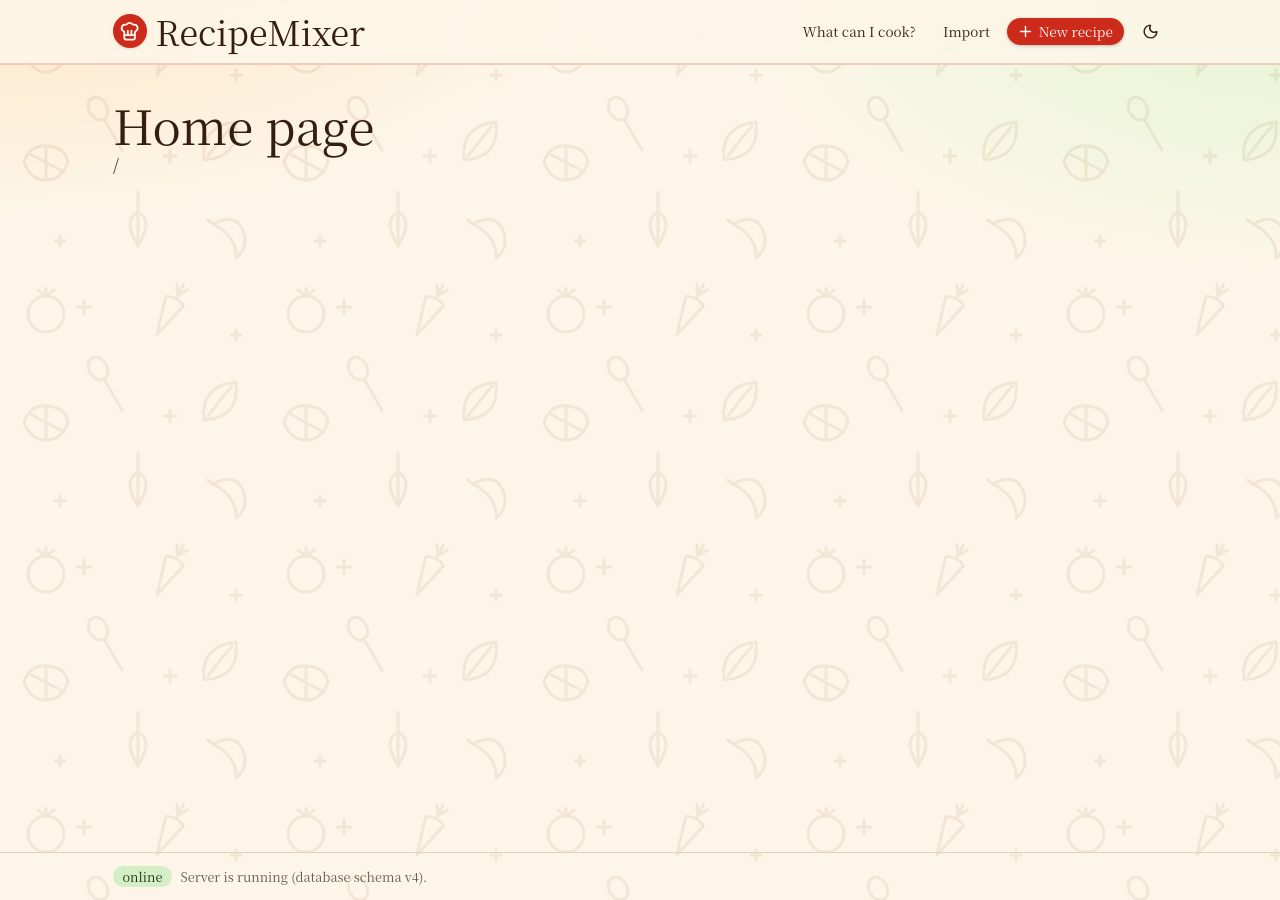
it: Layout › moves focus to the new page after following a link
The width and height of the screenshot is (1280, 900).
Click the link "What can I cook?". click: (859, 31)
box: [802,21,916,41]
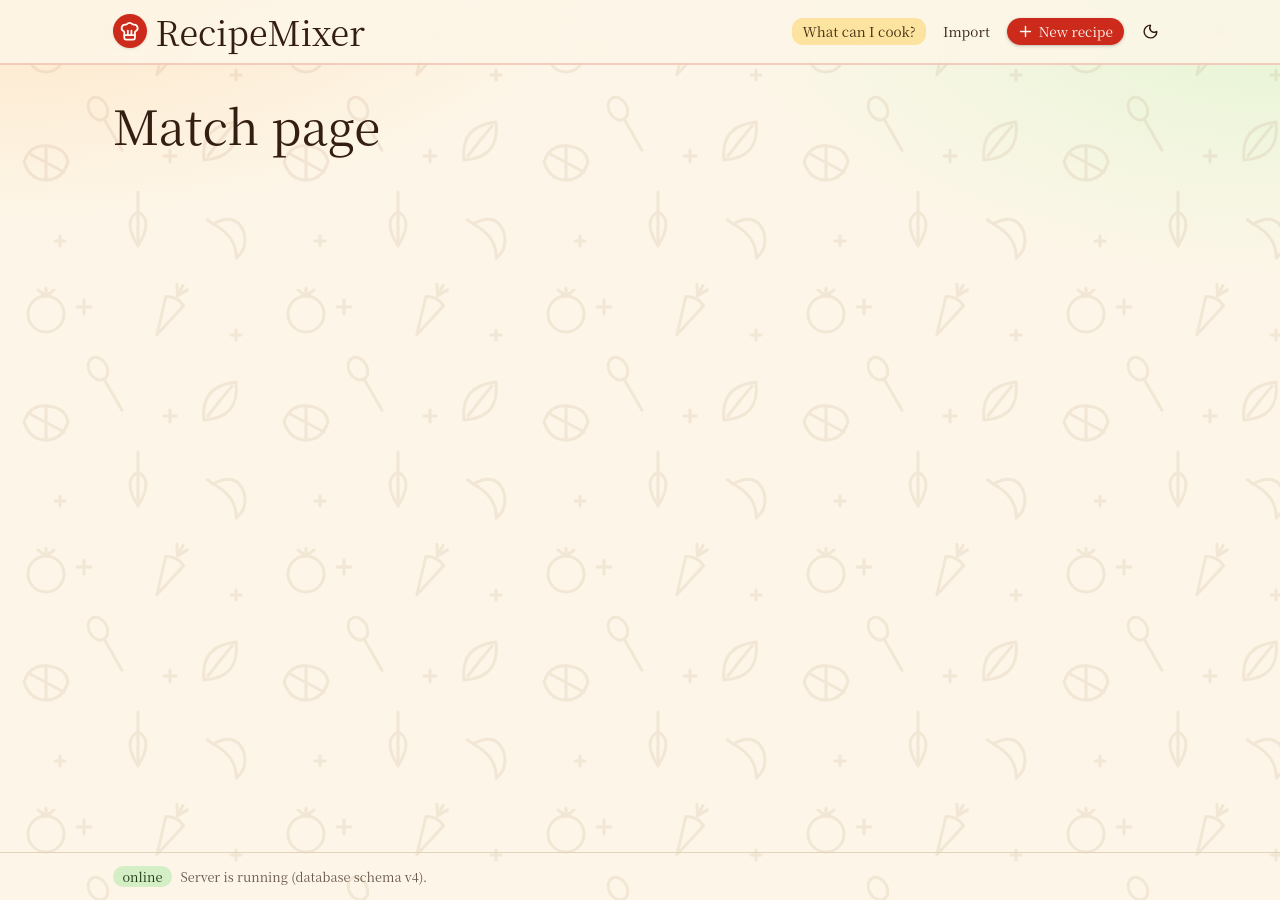
Now the heading "Match page" is shown, box [113,90,380,159]
